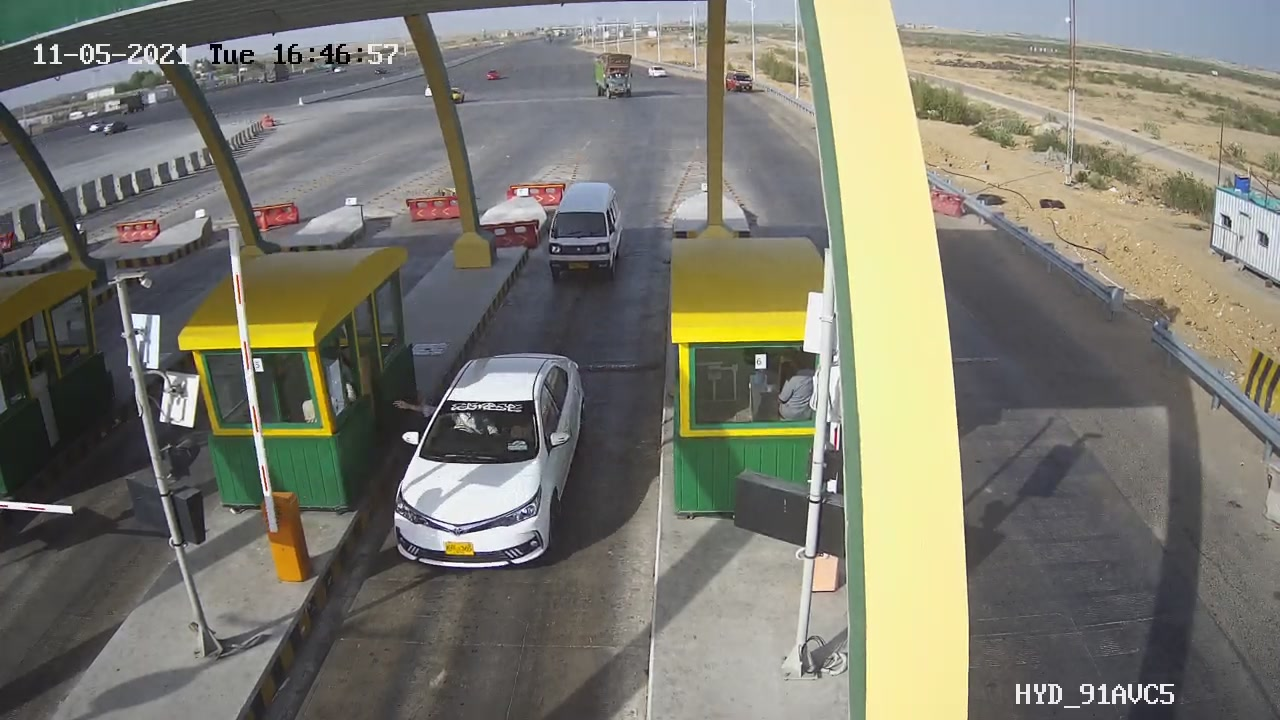F1: (376, 332, 605, 597), (527, 168, 641, 294)
